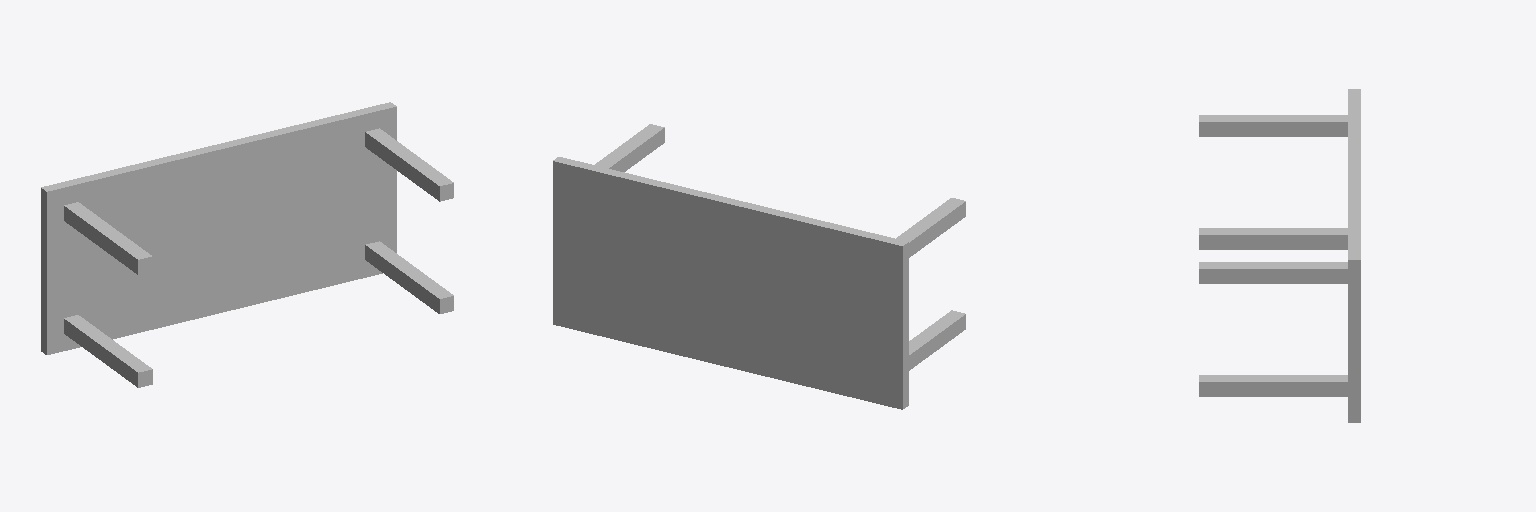
File: random_table49.obj
3 views of the same model, side by side, from view 1: azimuth 30°, elevation 25°; view 2: azimuth 150°, elevation 25°; view 3: azimuth 270°, elevation 25° (orthographic).
Parts seen in each view (by area): view 1: Table_Cube.440, TableLeg3_Cube.444, TableLeg0_Cube.441, TableLeg1_Cube.442, TableLeg2_Cube.443; view 2: Table_Cube.440, TableLeg1_Cube.442, TableLeg3_Cube.444, TableLeg0_Cube.441; view 3: Table_Cube.440, TableLeg0_Cube.441, TableLeg1_Cube.442, TableLeg2_Cube.443, TableLeg3_Cube.444.
Boxes of the visible parts, x1=… form: Table_Cube.440: x1=41, y1=102, x2=396, y2=354; TableLeg3_Cube.444: x1=64, y1=315, x2=152, y2=387; TableLeg0_Cube.441: x1=365, y1=128, x2=453, y2=201; TableLeg1_Cube.442: x1=64, y1=202, x2=152, y2=274; TableLeg2_Cube.443: x1=365, y1=241, x2=453, y2=313; Table_Cube.440: x1=553, y1=157, x2=908, y2=409; TableLeg1_Cube.442: x1=896, y1=198, x2=965, y2=257; TableLeg3_Cube.444: x1=909, y1=310, x2=965, y2=370; TableLeg0_Cube.441: x1=595, y1=124, x2=664, y2=171; Table_Cube.440: x1=1348, y1=89, x2=1360, y2=422; TableLeg0_Cube.441: x1=1199, y1=262, x2=1347, y2=283; TableLeg1_Cube.442: x1=1199, y1=115, x2=1347, y2=136; TableLeg2_Cube.443: x1=1199, y1=375, x2=1347, y2=396; TableLeg3_Cube.444: x1=1199, y1=228, x2=1347, y2=249.
Size of the model in its own units: 11.58 by 5.17 by 4.61.